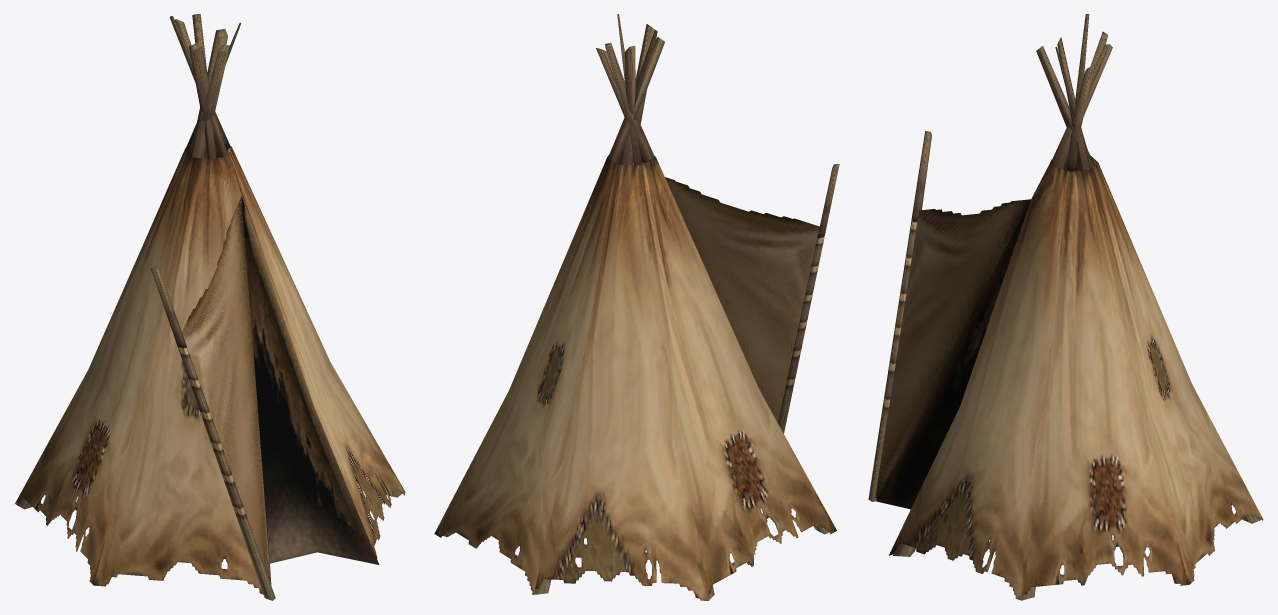
The model's file is stbuho8.dae.
3 renders of one model, left to right at view 1: azimuth 30°, elevation 25°; view 2: azimuth 150°, elevation 25°; view 3: azimuth 270°, elevation 25°, orthographic. The views are drawn at different scales.
Visible parts, largest first — view 1: tipy00; view 2: tipy00; view 3: tipy00.
Part boxes in pixels (<box>): tipy00: <box>14,14,405,600</box>; tipy00: <box>434,14,839,600</box>; tipy00: <box>868,14,1263,600</box>.
Size of the model in its own units: 2.07 by 2.2 by 3.01.
1 material, 1 textured.
